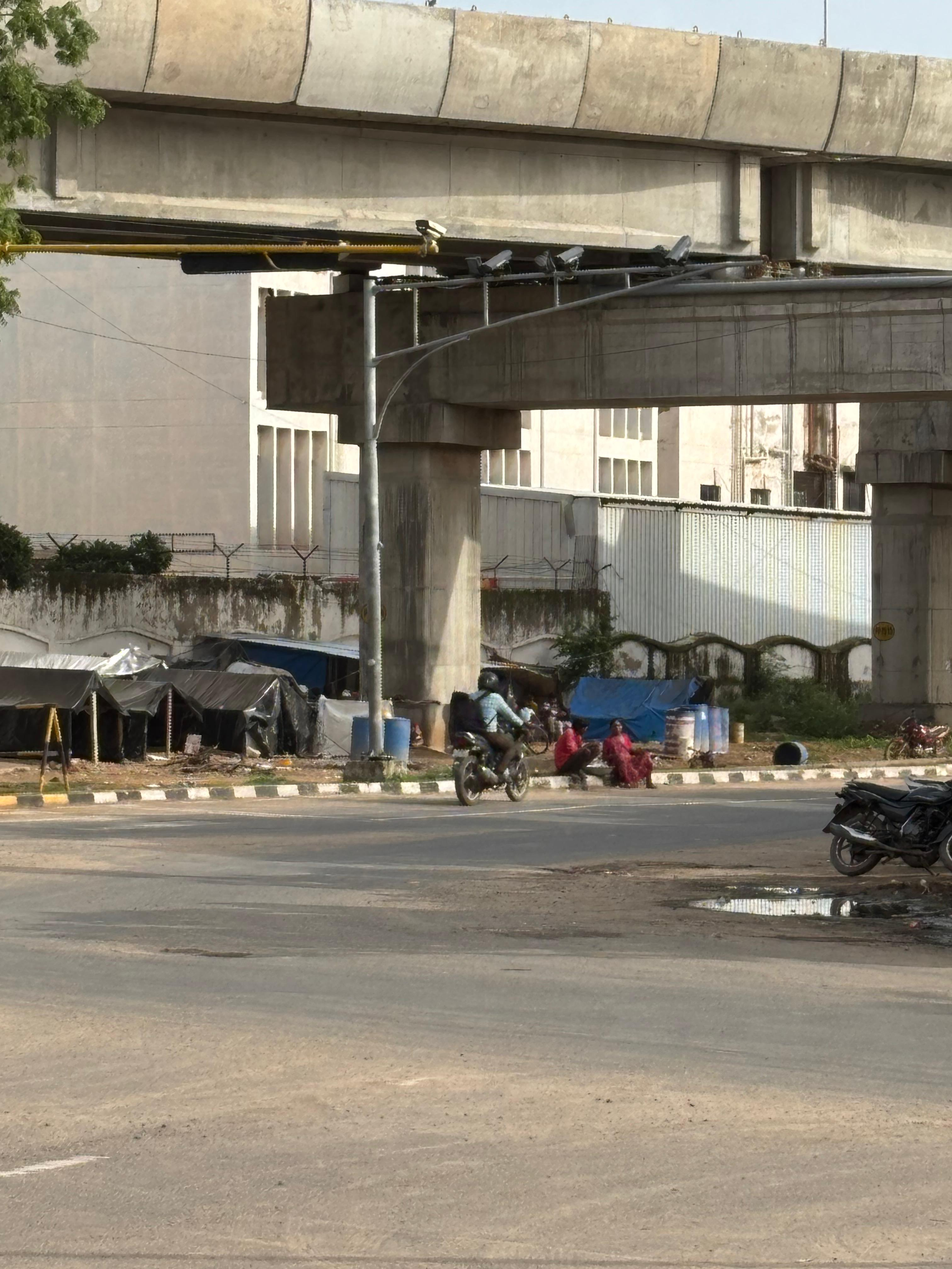BikeWithRider: (443, 663, 538, 809)
Helmet: (474, 665, 509, 700)
